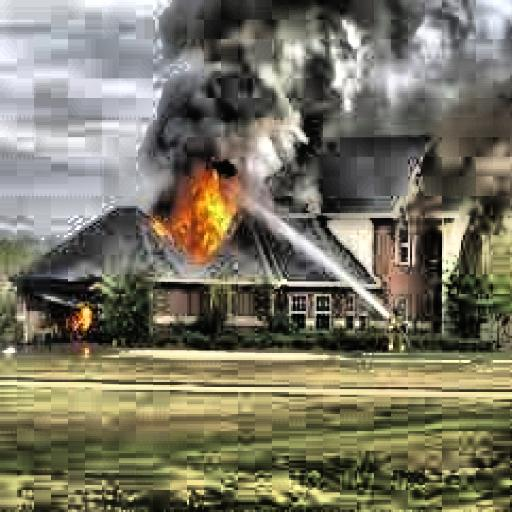fire: (146, 154, 248, 255), (68, 296, 102, 353)
